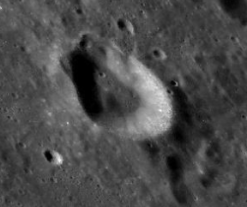crater: (59, 33, 205, 184), (33, 137, 77, 173)
